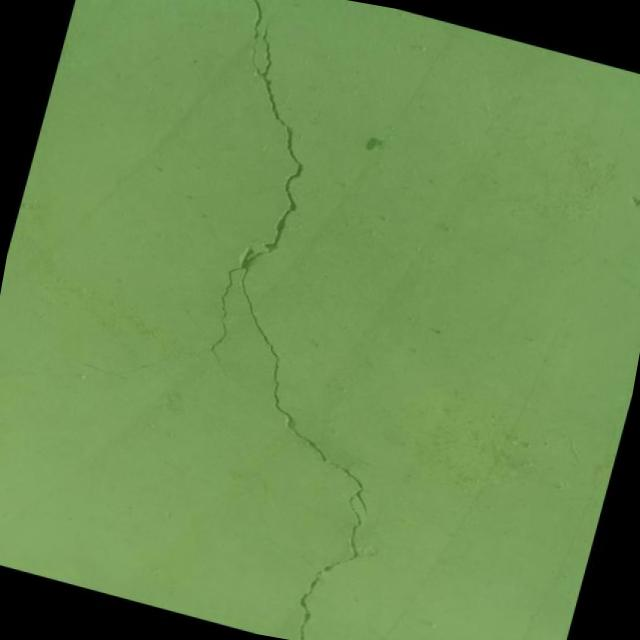crack: (65, 0, 498, 640), (76, 337, 166, 390), (15, 361, 51, 386), (0, 363, 17, 402)
